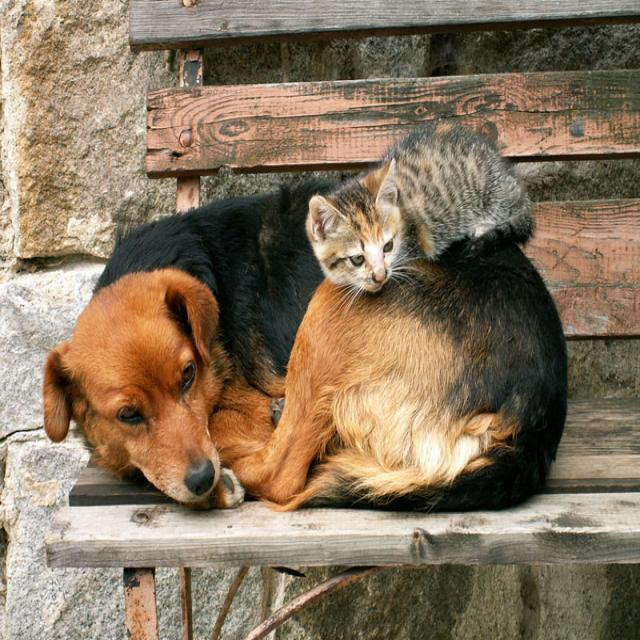cat: (298, 115, 546, 296)
dog: (36, 137, 576, 514)
